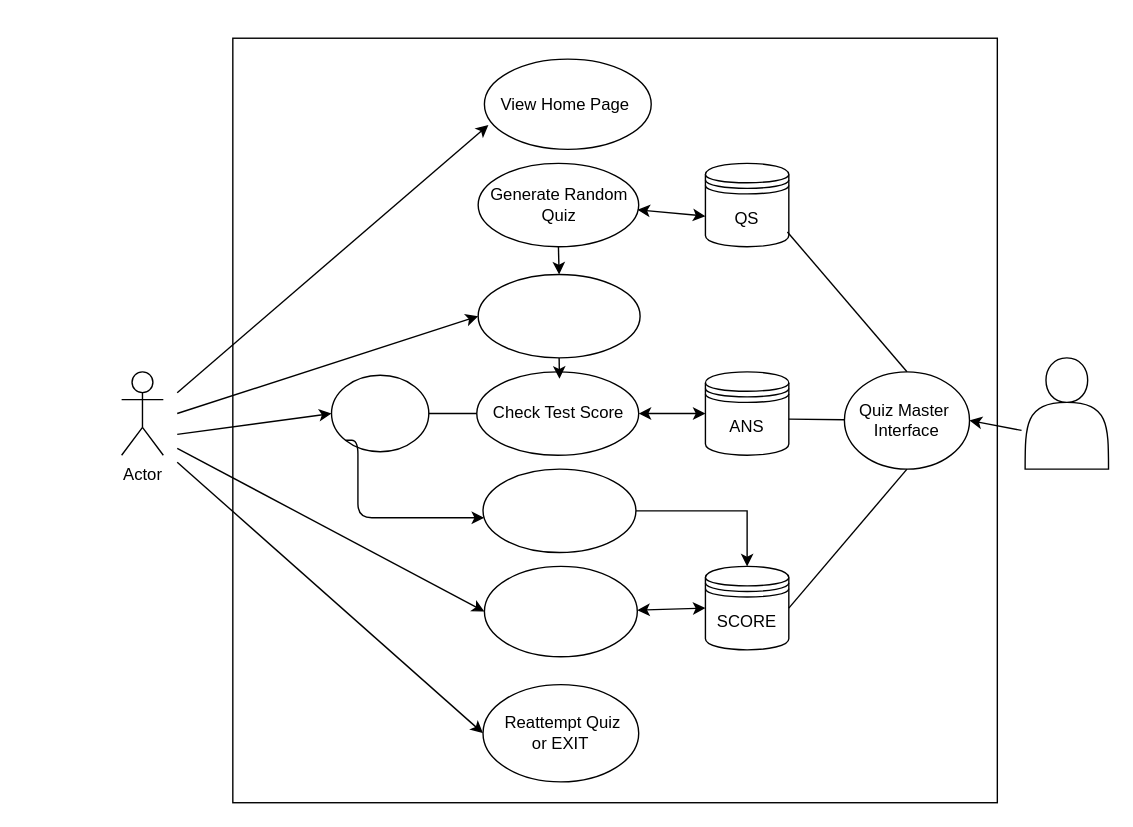
This 1133x827 diagram has some shape labels left out. The centre of each missing label's shape, as x and y in pixels:
"Check Leader Board" goes at pixel 560 611.
"EXIT Or" goes at pixel 379 413.
"Participation Quiz" goes at pixel 558 315.
"Quiz Master" goes at pixel 1066 413.
"Submit Score with Name & email" goes at pixel 559 510.
